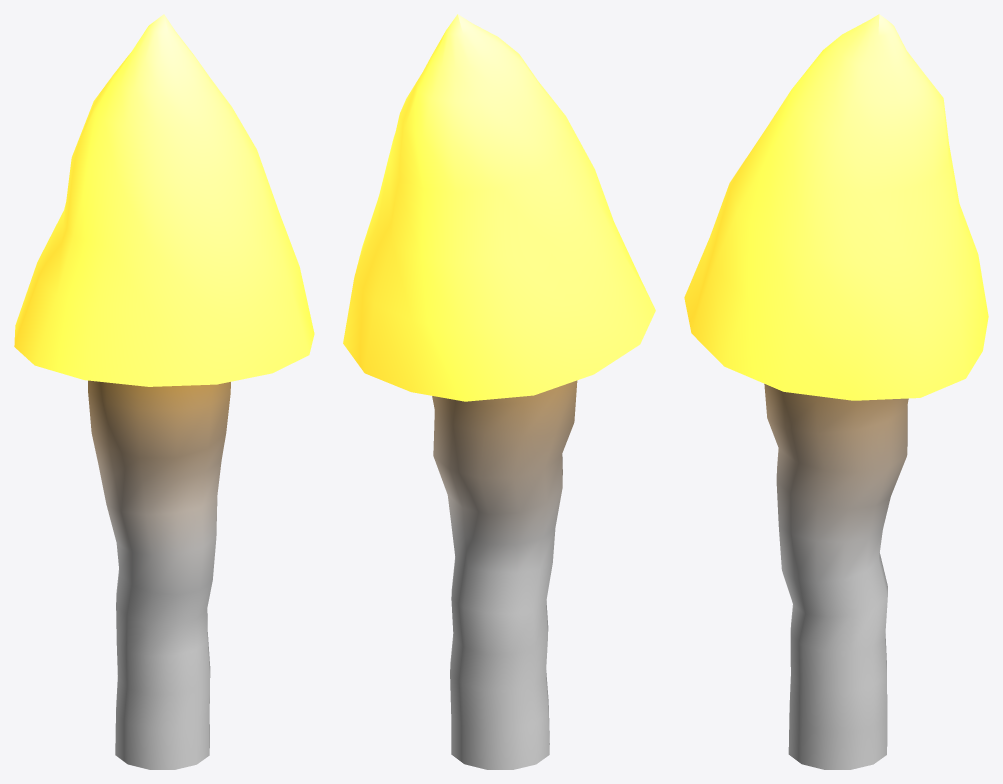
Rendered from mushroom_6.glb.
The picture shows the model from 3 angles, left to right: view 1: azimuth 30°, elevation 25°; view 2: azimuth 150°, elevation 25°; view 3: azimuth 270°, elevation 25°; orthographic projection. The views are drawn at different scales.
Visible parts, largest first — view 1: geo1; view 2: geo1; view 3: geo1.
Boxes of the visible parts, <box> form: geo1: <box>14,14,314,769</box>; geo1: <box>343,14,655,769</box>; geo1: <box>684,14,988,769</box>.
Size of the model in its own units: 0.1456 by 0.3879 by 0.1434.
